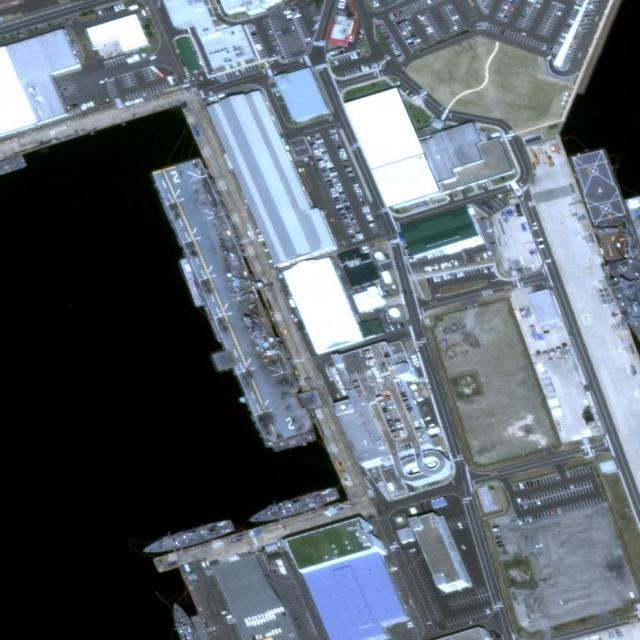Landing: (151, 153, 323, 458)
